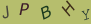B: (40, 5, 52, 21)
H: (61, 1, 75, 17)
J: (2, 5, 10, 18)
P: (18, 2, 30, 16)
Y: (81, 9, 91, 21)
